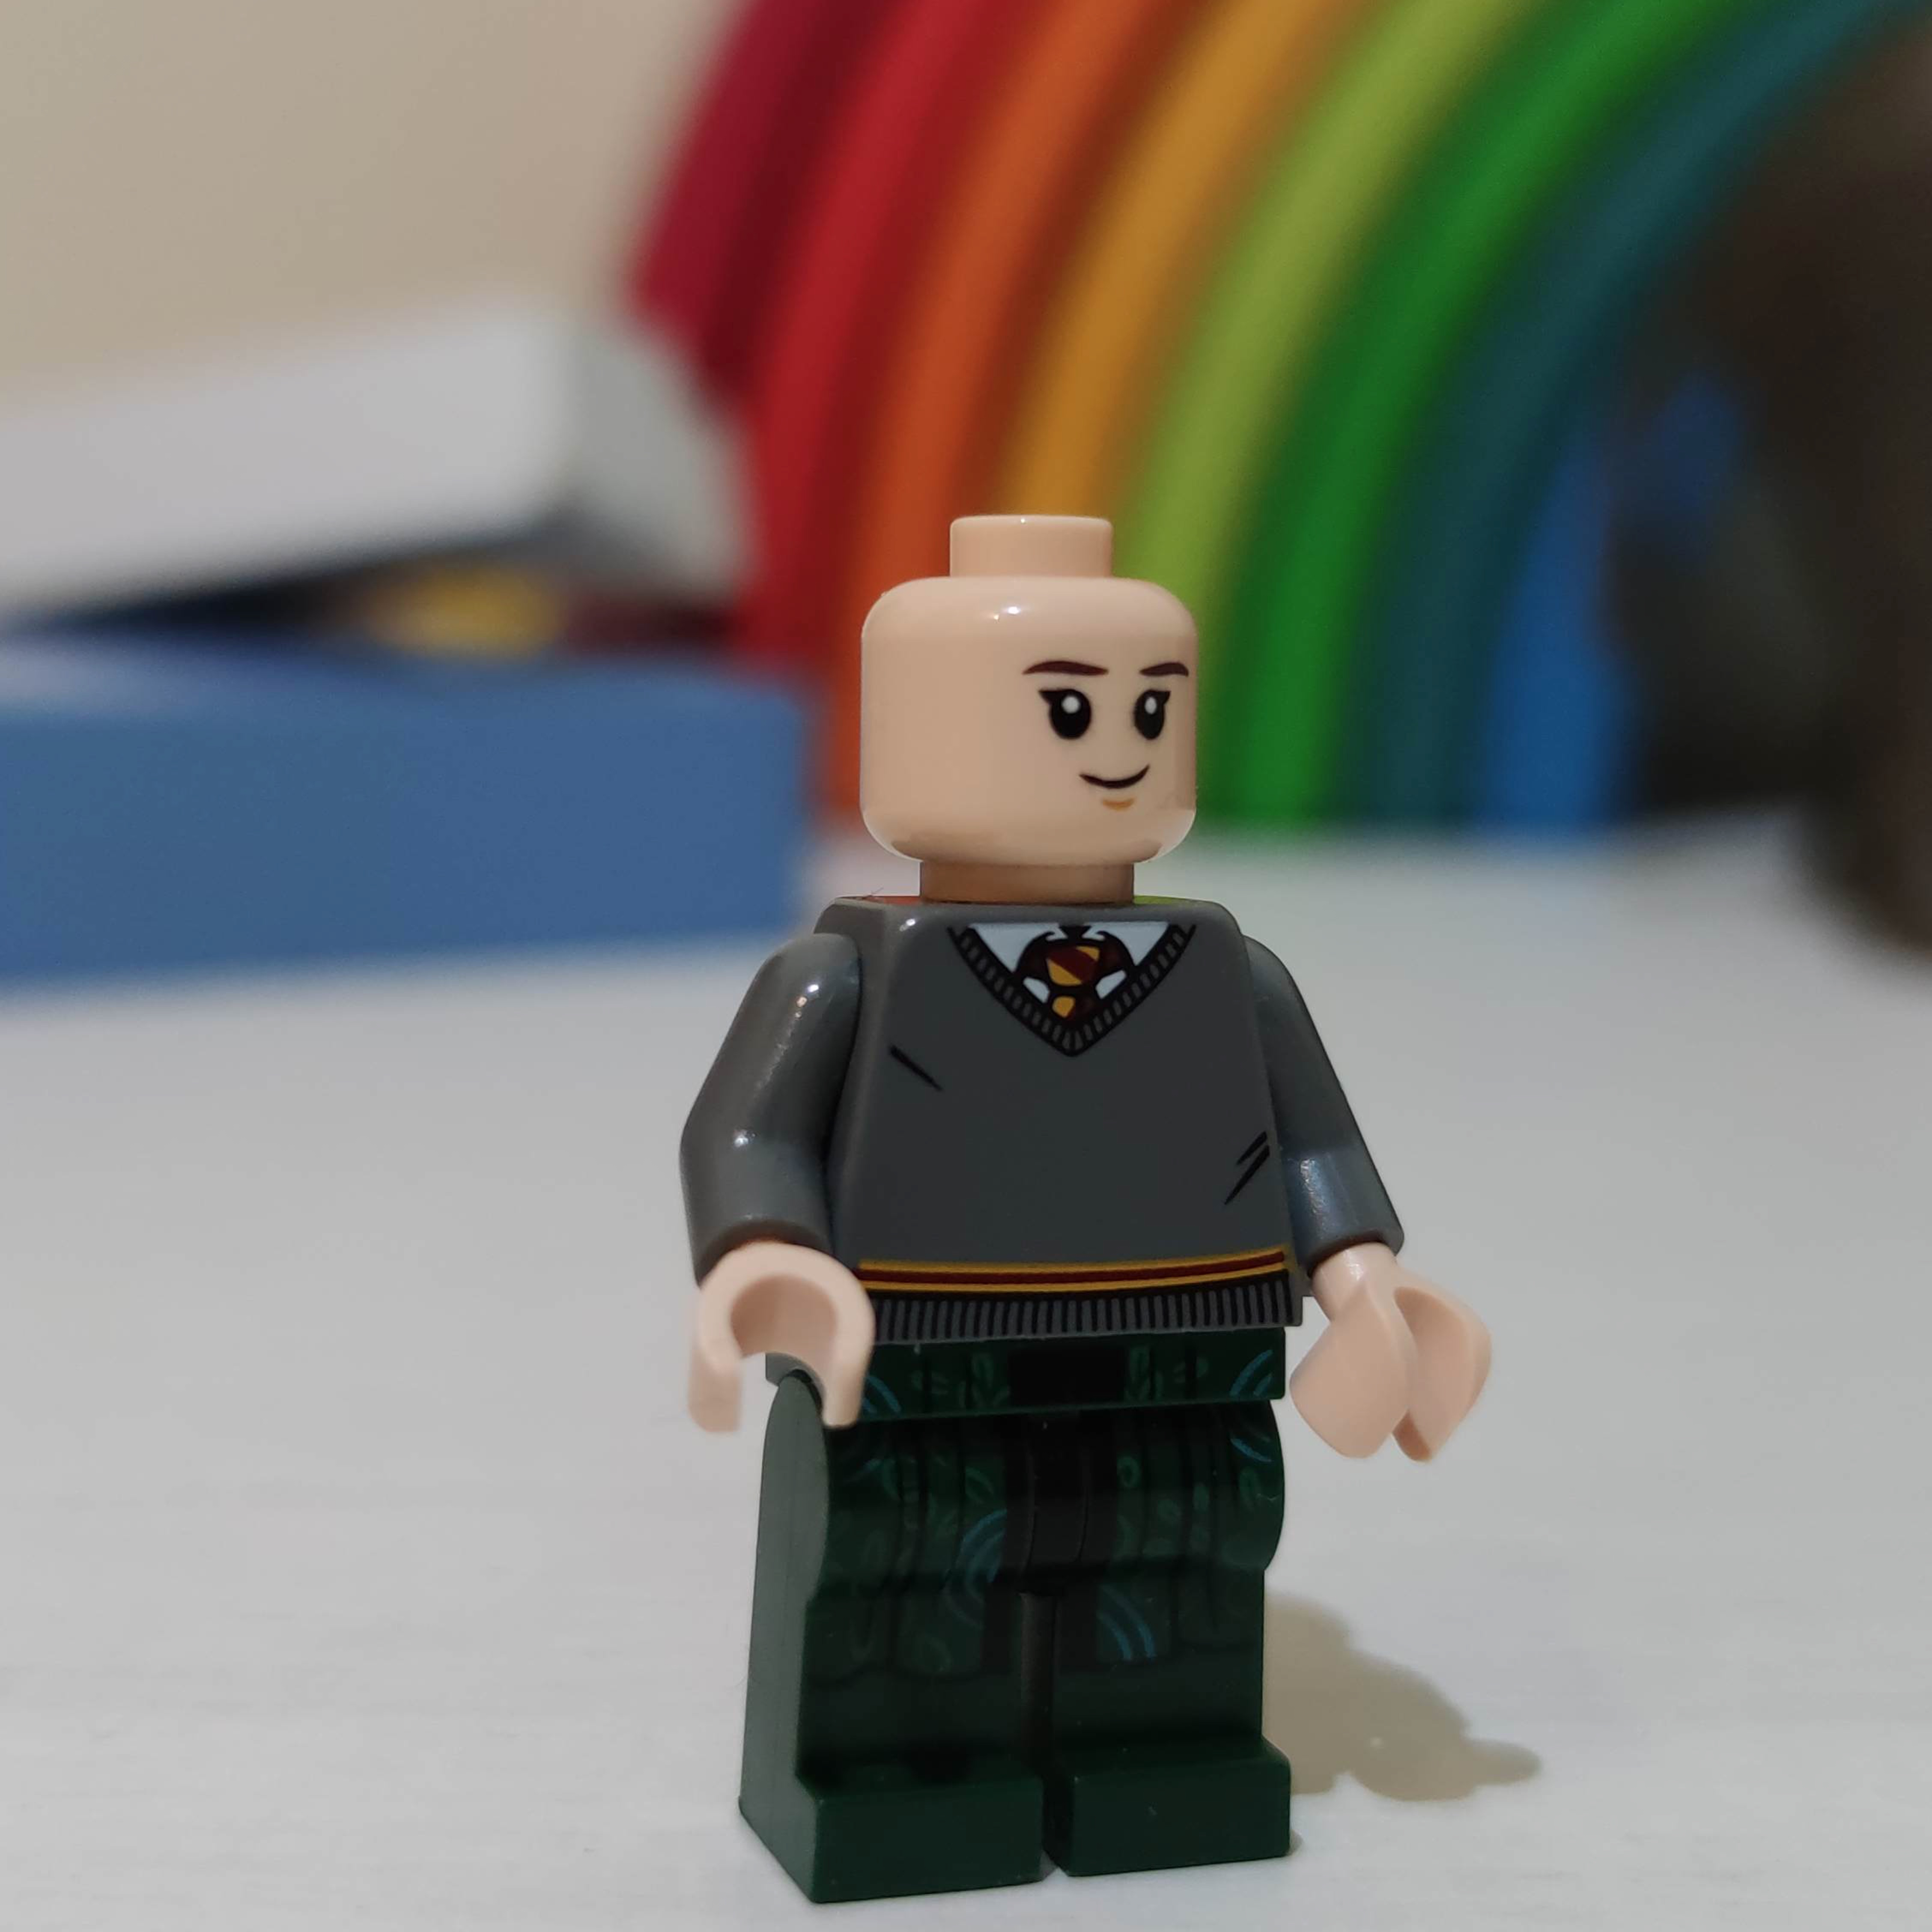lego: (672, 513, 1493, 1905)
